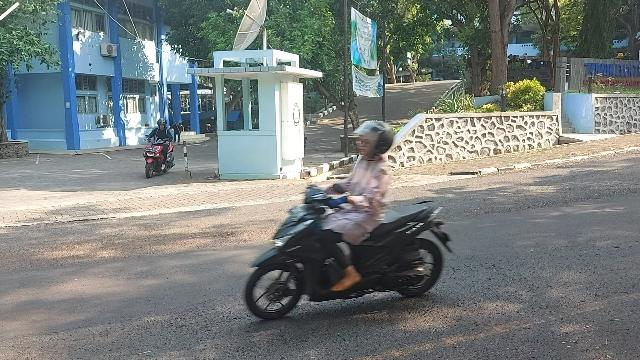helm: (355, 121, 394, 157), (158, 119, 168, 129)
motor: (246, 174, 454, 321), (145, 137, 176, 180)
